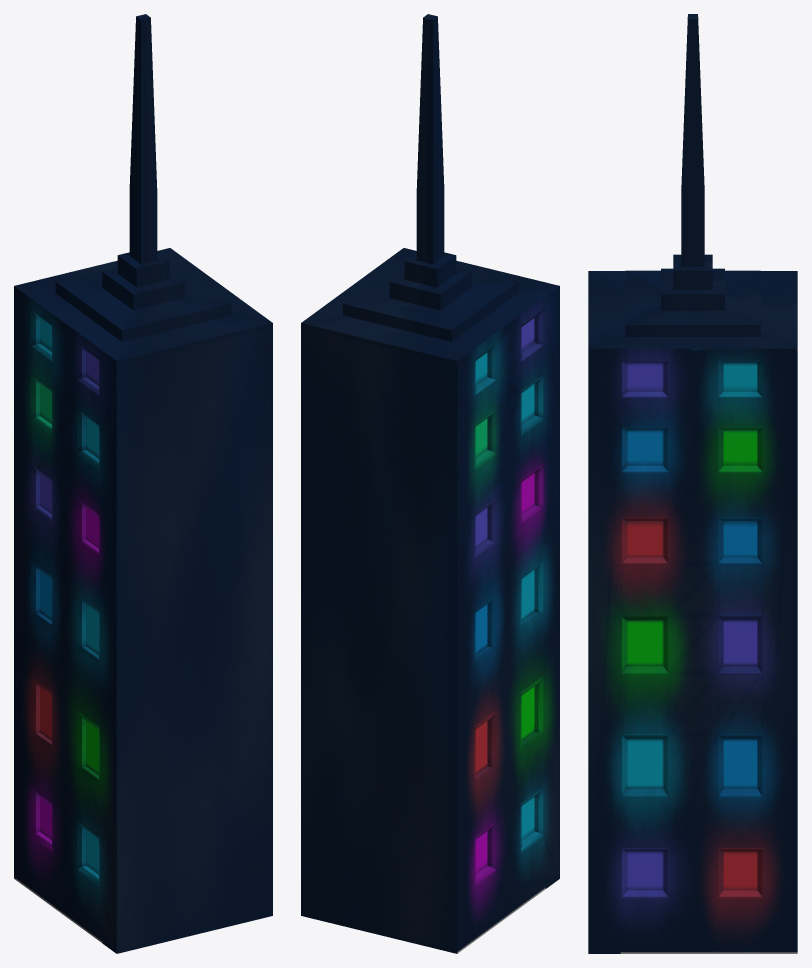
Rendered from Building1.fbx.
The picture shows the model from 3 angles, left to right: view 1: azimuth 30°, elevation 25°; view 2: azimuth 150°, elevation 25°; view 3: azimuth 270°, elevation 25°; orthographic projection. The views are drawn at different scales.
Visible parts, largest first — view 1: Building_1; view 2: Building_1; view 3: Building_1.
Boxes of the visible parts, left/top/right/bottom form: Building_1: left=14, top=14, right=272, bottom=953; Building_1: left=301, top=14, right=559, bottom=953; Building_1: left=588, top=14, right=797, bottom=953.
Size of the model in its own units: 0.8779 by 4.73 by 1.
Materials: 1 (1 with a texture image).
